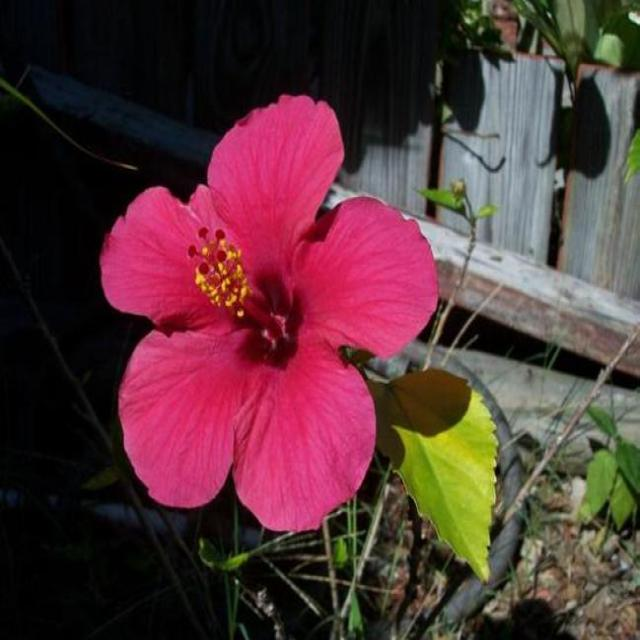hibiscus: (69, 78, 499, 573)
